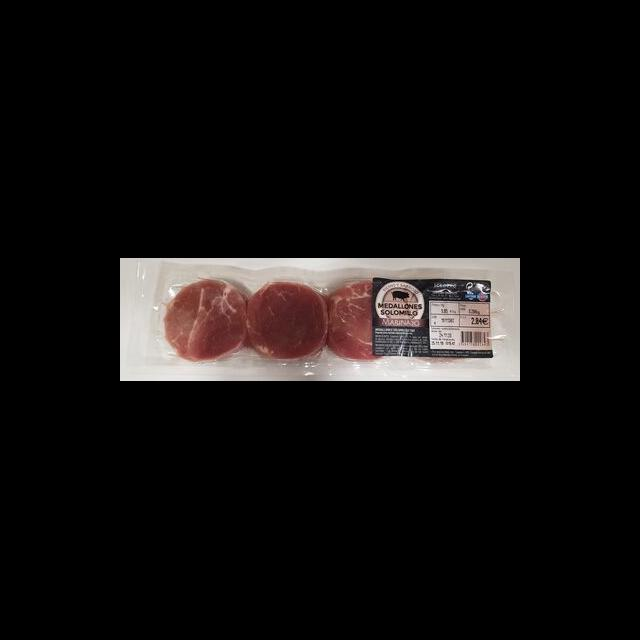beef: (163, 280, 247, 364), (247, 282, 328, 359), (327, 281, 398, 359)
